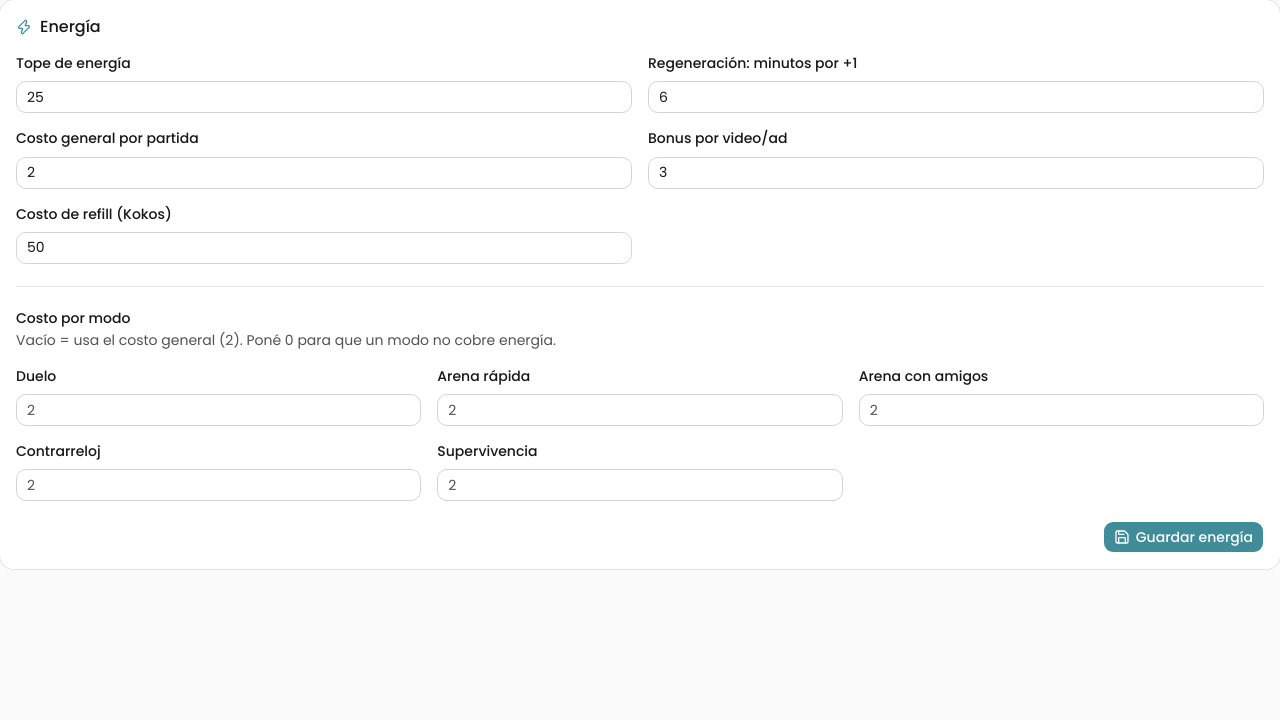
it: EnergyConfigForm — costo por modo › rechaza un costo decimal y no guarda
In the number field labelled "Arena con amigos": [1061, 410] box 859,394 -> 1264,426, type "1.5"
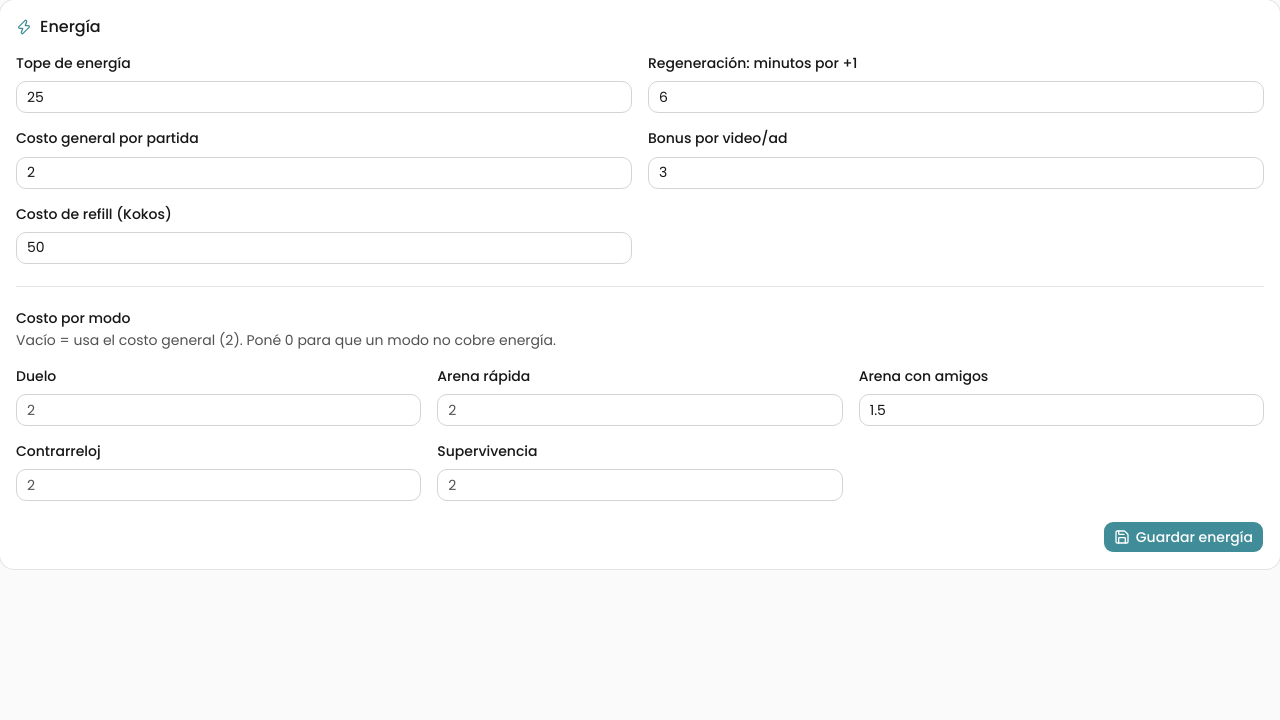
Click the button "Guardar energía": [1183, 537] box 1103,521 -> 1264,553
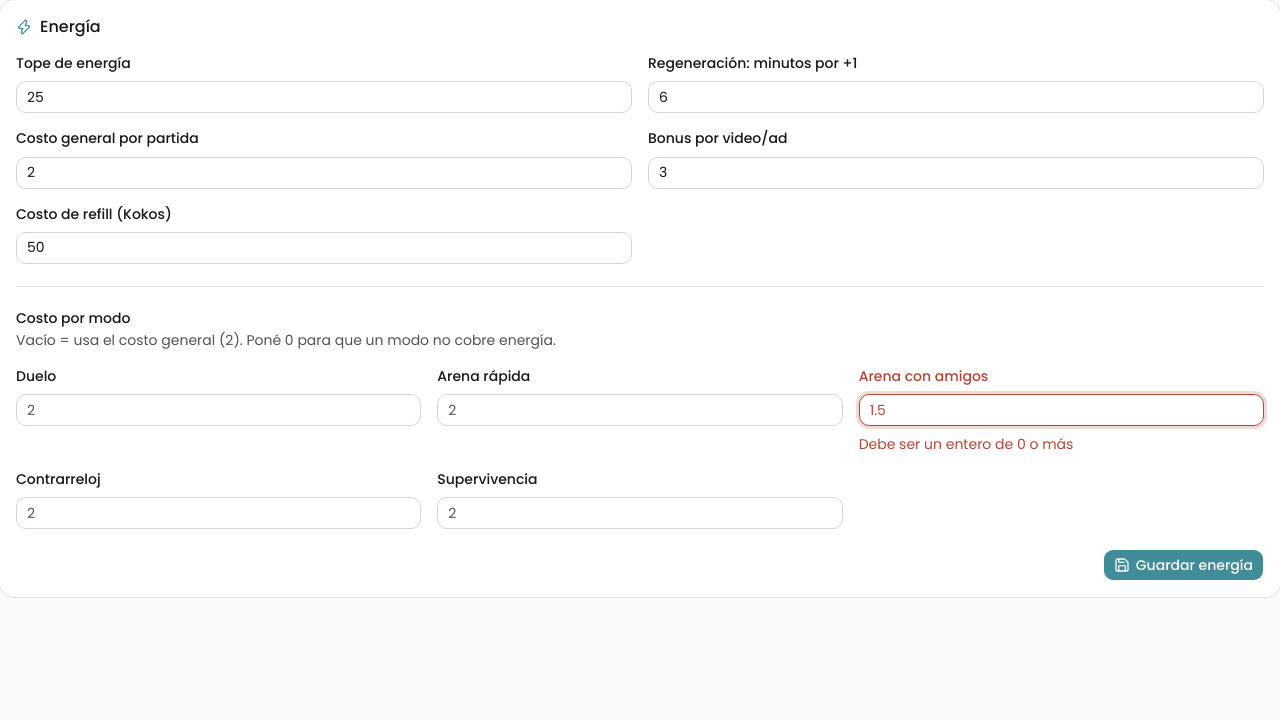
Now the text "Debe ser un entero de 0 o más" is shown, box 859,434 -> 1073,454
